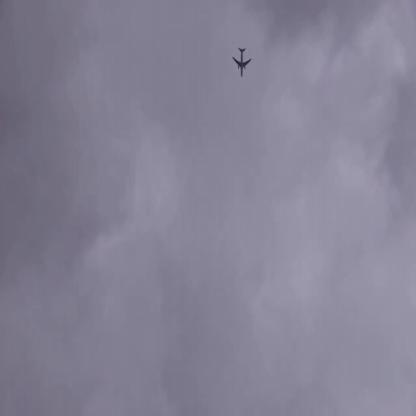CIV_Plane: (233, 42, 254, 82)
